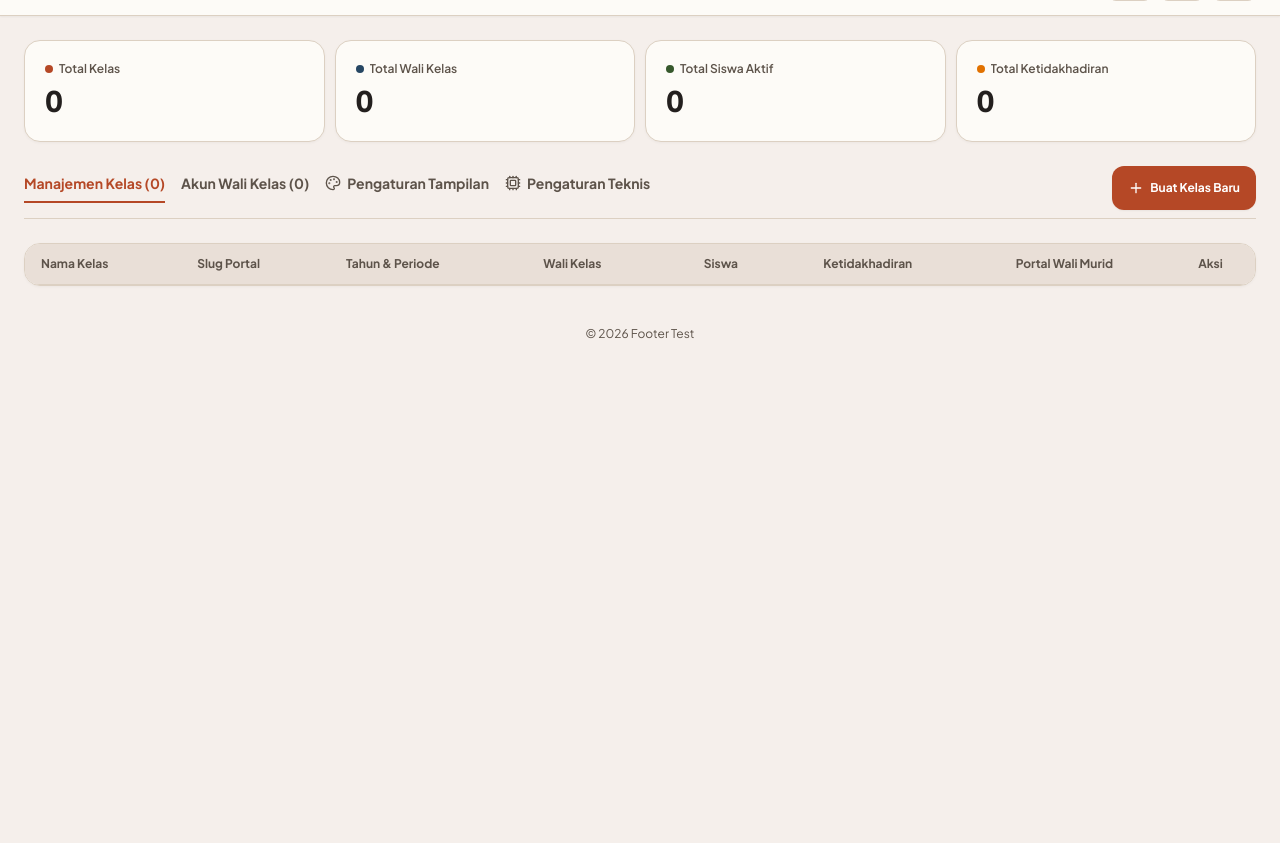
Admin Password UI in Settings Tab › should validate minimum length realtime and show alert
Click the button "Pengaturan Tampilan": (407, 188) [325,173,489,203]
(page scrolled)
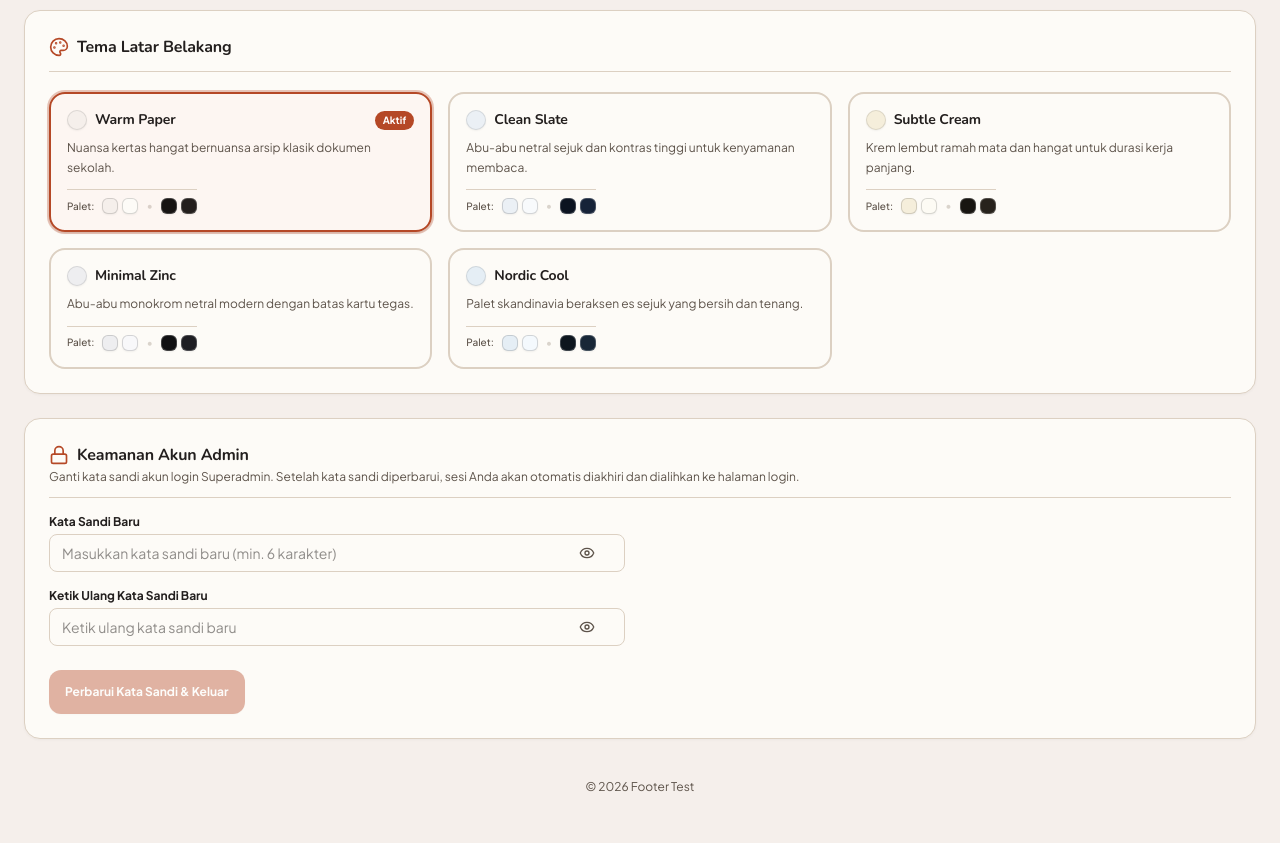
In the password field labelled "Kata Sandi Baru": (337, 552) [49,534,625,572], type "123"
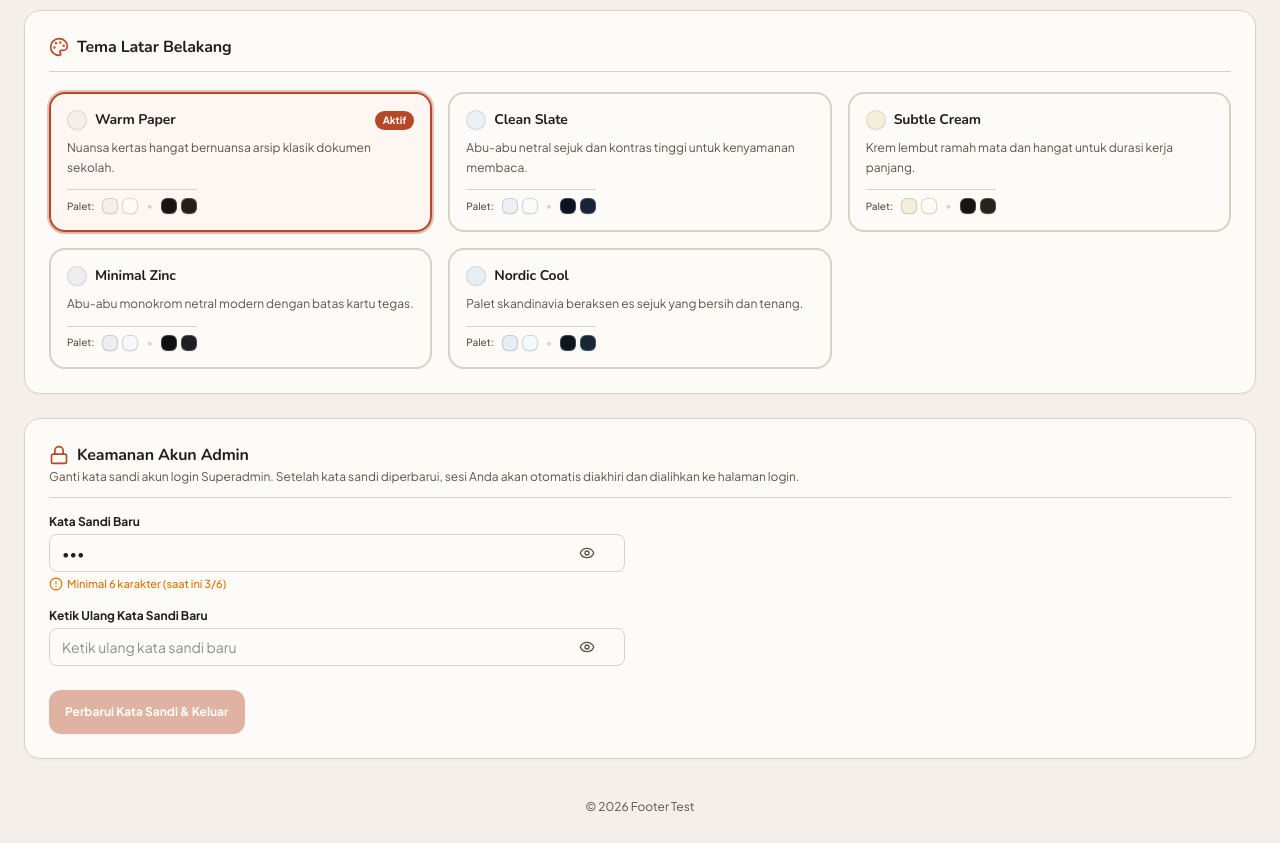
Expected: the button "Perbarui Kata Sandi & Keluar" is disabled, [49,690,245,734]
Expected: the text "Minimal 6 karakter (saat ini 3/6)" is shown, [49,576,226,591]
